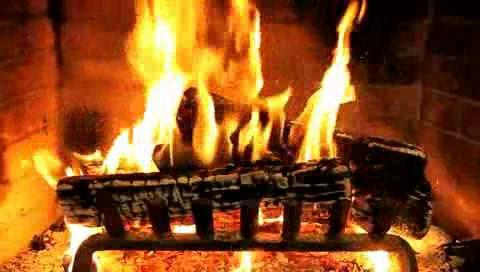fire: (110, 5, 342, 163)
